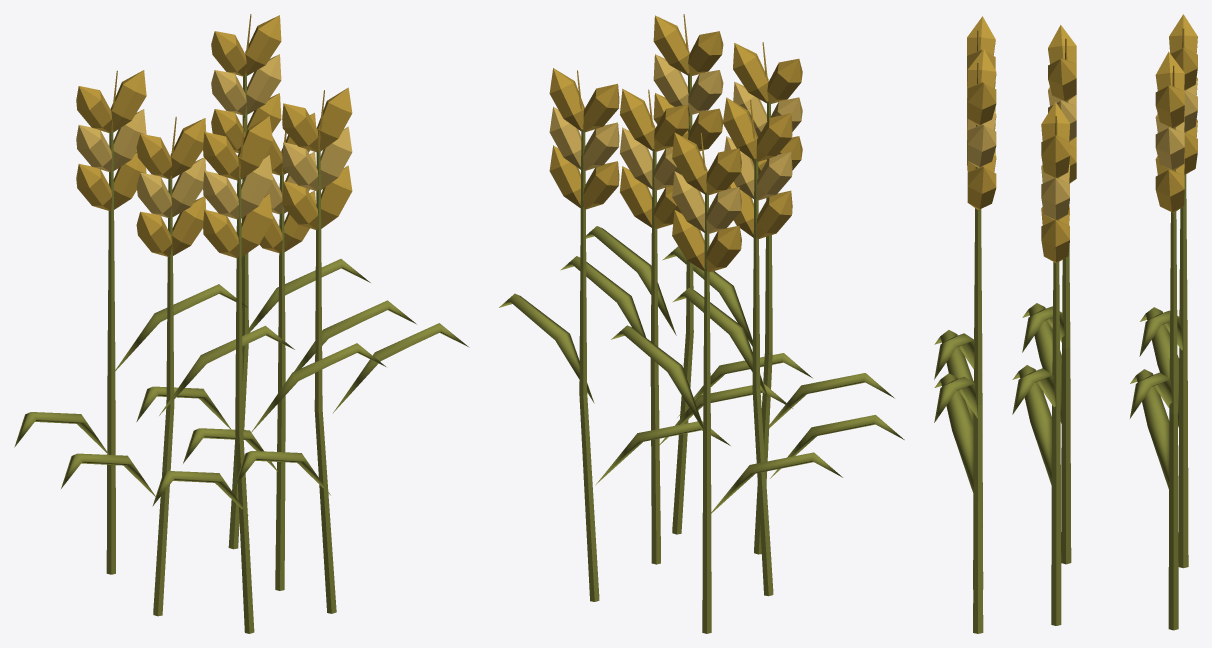
The model's file is Plant_Pastoral_WheatCluster_001.glb.
The picture shows the model from 3 angles, left to right: view 1: azimuth 30°, elevation 25°; view 2: azimuth 150°, elevation 25°; view 3: azimuth 270°, elevation 25°; orthographic projection. The views are drawn at different scales.
Parts seen in each view (by area): view 1: PA_WheatCluster_Body; view 2: PA_WheatCluster_Body; view 3: PA_WheatCluster_Body.
Boxes of the visible parts, left/top/right/bottom form: PA_WheatCluster_Body: left=14, top=14, right=469, bottom=633; PA_WheatCluster_Body: left=499, top=14, right=904, bottom=633; PA_WheatCluster_Body: left=934, top=14, right=1197, bottom=633.
Size of the model in its own units: 0.94 by 1.29 by 0.5394.
